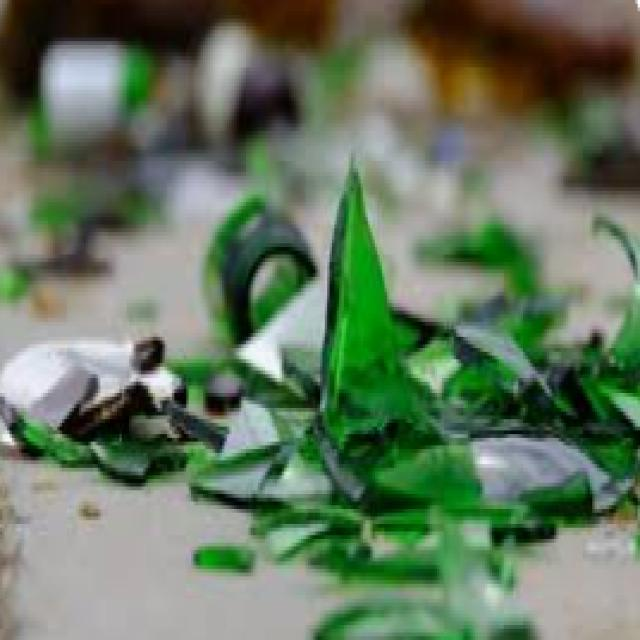PecahanKaca: (186, 150, 633, 636), (0, 329, 229, 482), (200, 191, 318, 348)
